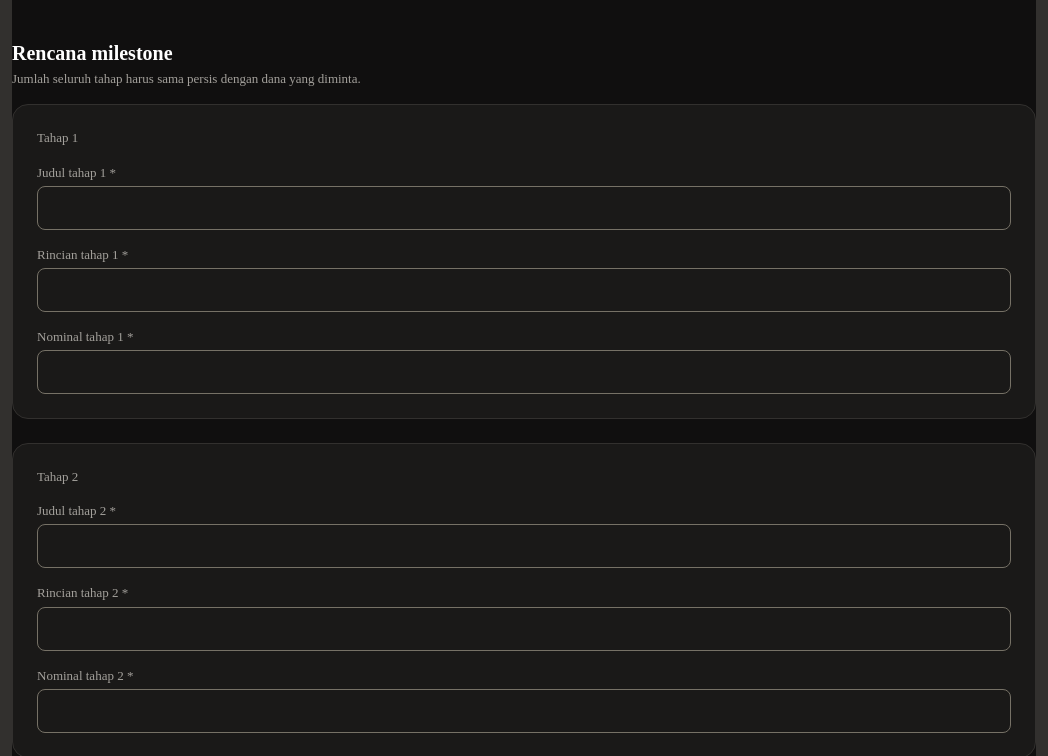
Test case: milestone plan › rejects a fractional value typed into the amount column
(page scrolled)
Type "5000000.5" into the field labelled "Nominal tahap 1 *". click: [524, 372]
box: [37, 350, 1011, 394]
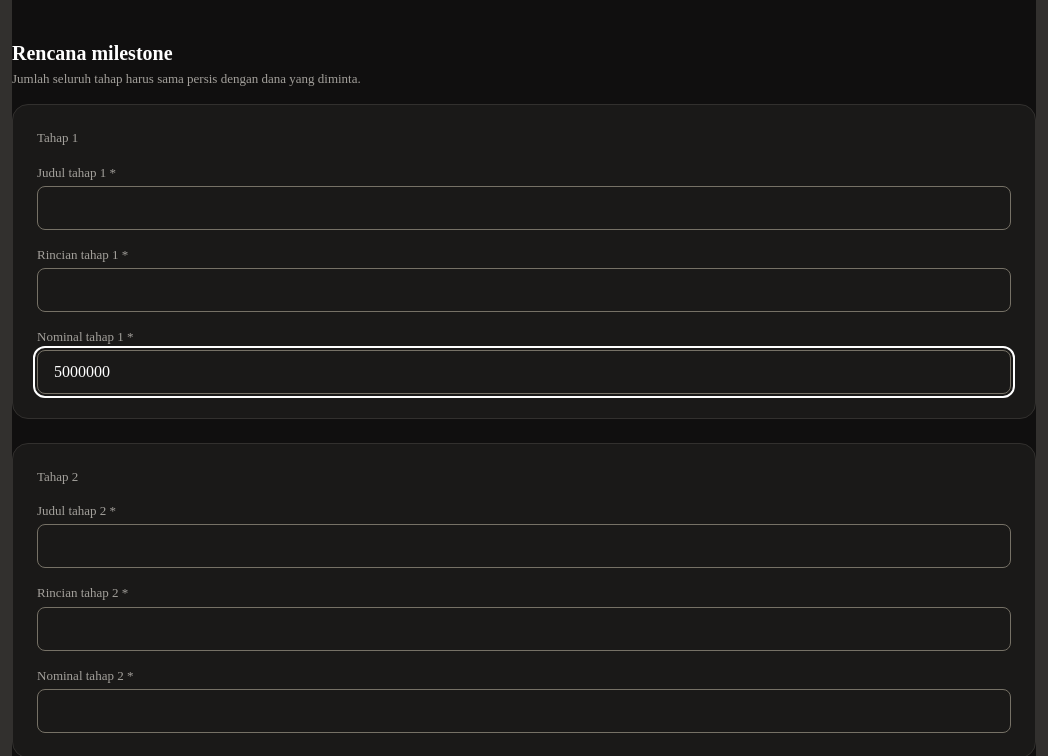
Now the field labelled "Nominal tahap 1 *" holds "5000000", box [37, 350, 1011, 394]
